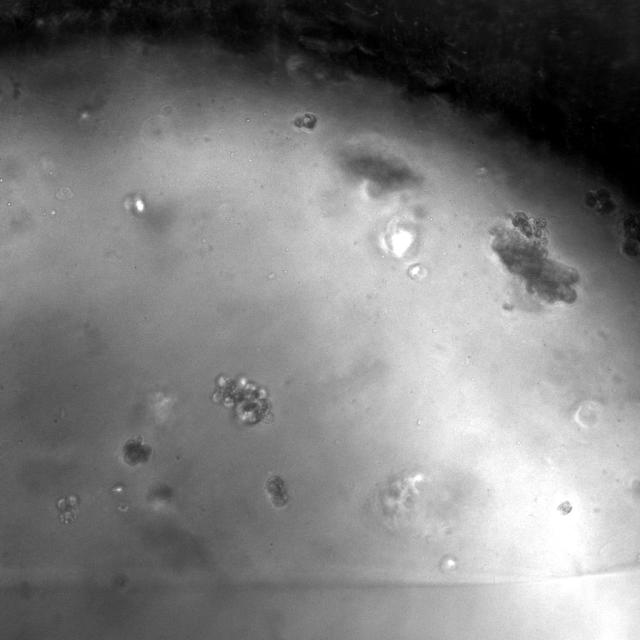organoid: (493, 211, 580, 303), (212, 374, 272, 425), (122, 435, 151, 465), (265, 475, 289, 508), (56, 494, 79, 524)
